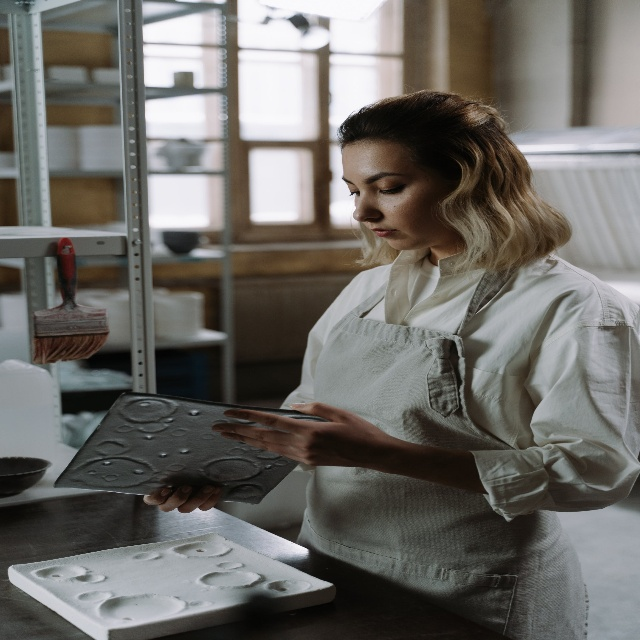Sin_guantes: (211, 401, 387, 472), (142, 483, 223, 514)
